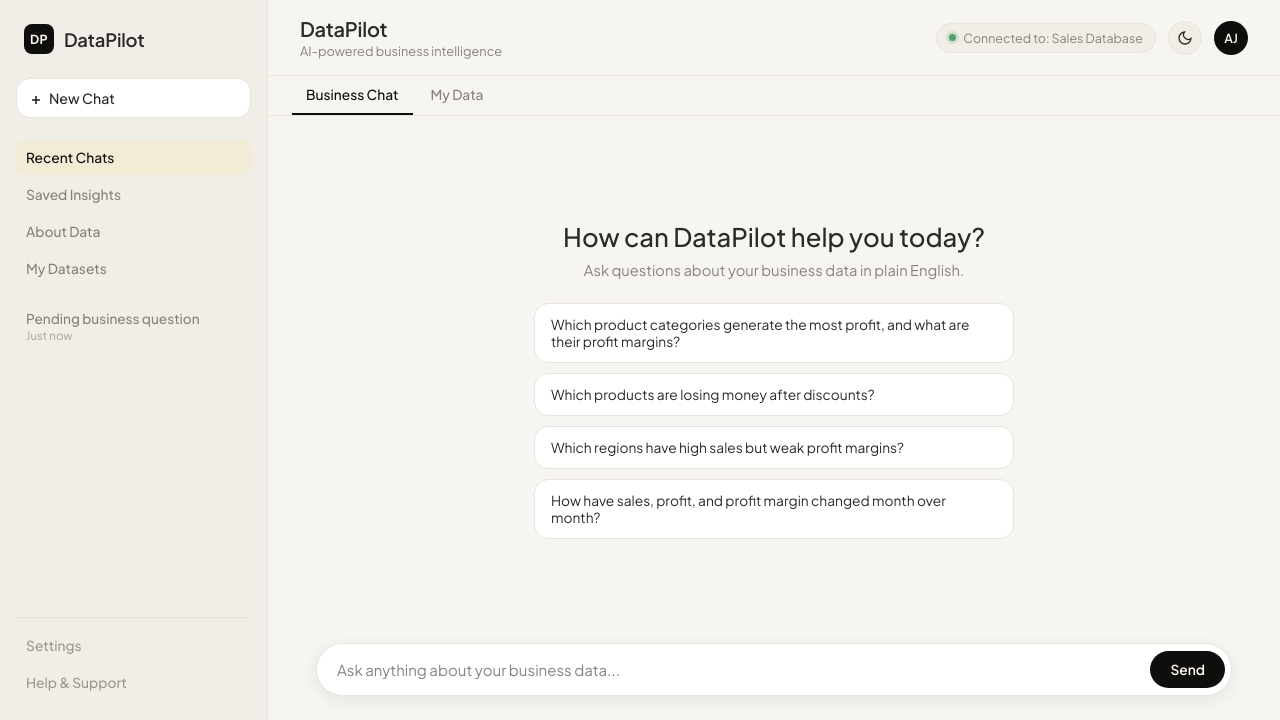
Test: dataset selection & strict-answer display › blocks asking until a dataset is selected
Click the tab "My Data" at (457, 96), box [416,76,497,115]
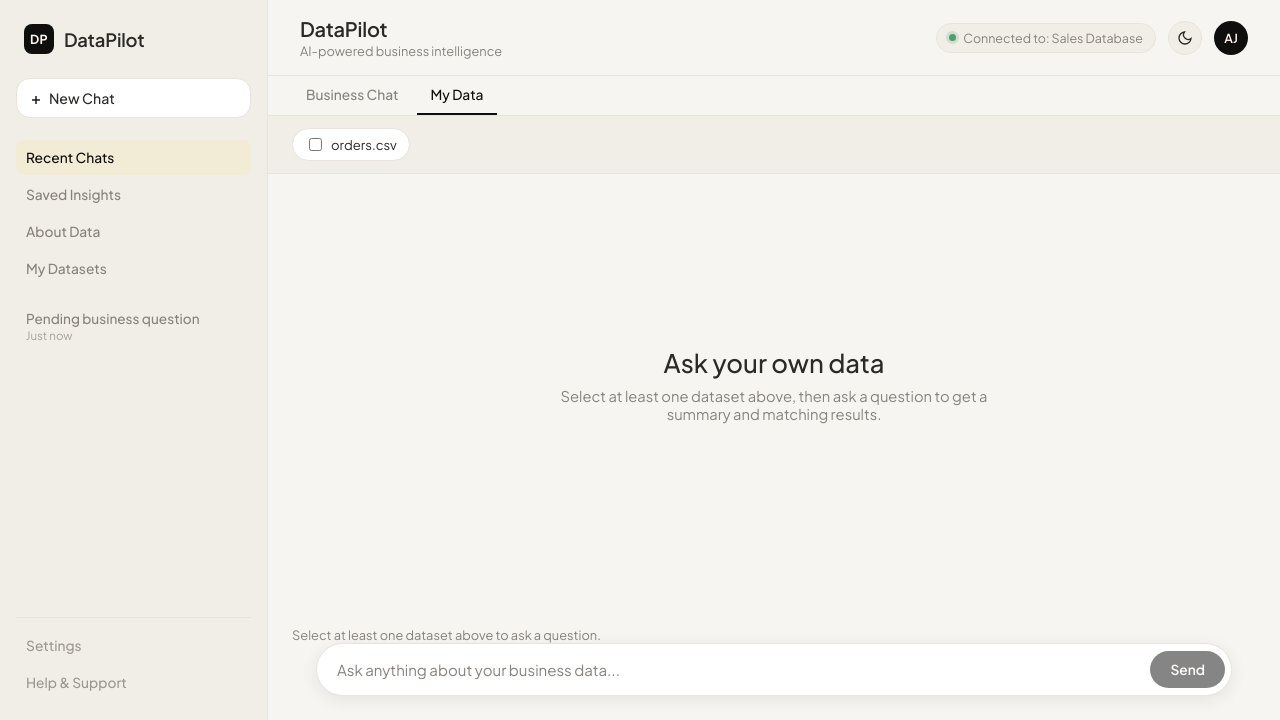
Now the text "orders.csv" is shown, box [292,128,410,161]
Now the button "Send" is disabled, box [1150,651,1225,688]
Now the text "Select at least one dataset above to ask a question." is shown, box [292,627,601,643]
